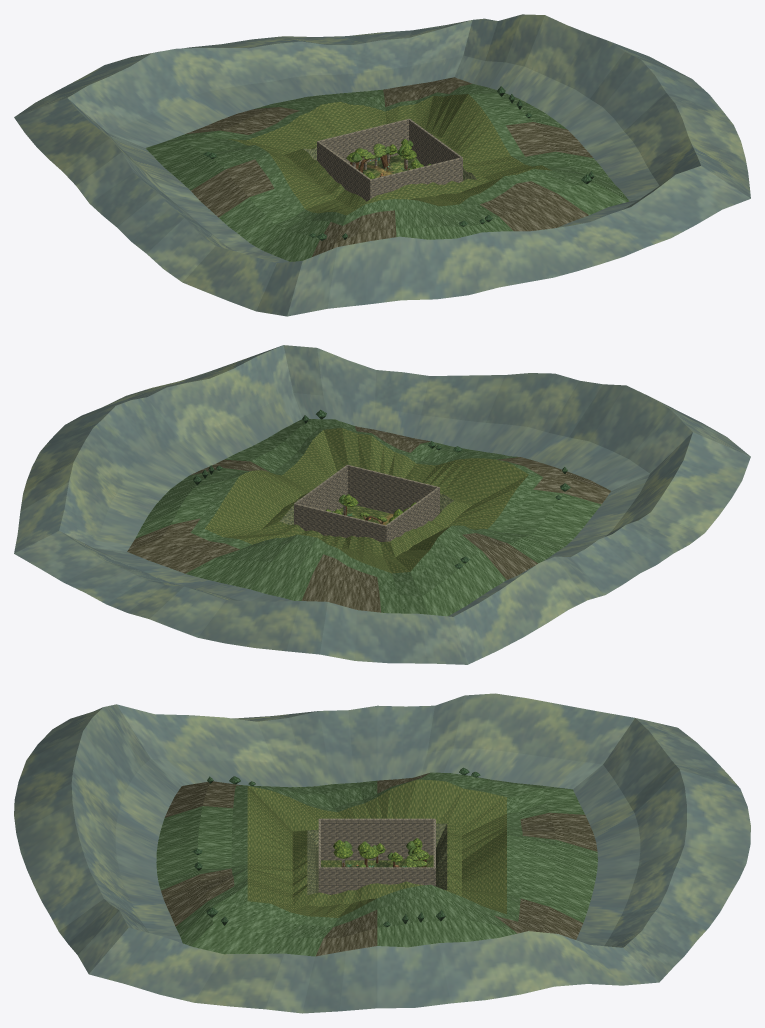
The model's file is RootChoir.fbx.
3 views of the same model, one above another, from view 1: azimuth 30°, elevation 25°; view 2: azimuth 150°, elevation 25°; view 3: azimuth 270°, elevation 25° (orthographic). The views are drawn at different scales.
Visible parts, largest first — view 1: Surroundings, Rim, C_Solids, Set, Terrain; view 2: Surroundings, Rim, C_Solids, Set; view 3: Surroundings, Rim, C_Solids, Set, Terrain.
Boxes of the visible parts, box(x1,y1,x2,y2) form: Surroundings: box(14, 14, 750, 316); Rim: box(228, 94, 551, 215); C_Solids: box(317, 119, 462, 201); Set: box(343, 139, 430, 187); Terrain: box(358, 155, 420, 177); Surroundings: box(14, 345, 750, 664); Rim: box(205, 428, 528, 573); C_Solids: box(294, 465, 439, 541); Set: box(326, 494, 415, 524); Surroundings: box(14, 693, 750, 1013); Rim: box(247, 779, 506, 917); C_Solids: box(318, 818, 435, 894); Set: box(333, 838, 429, 867); Terrain: box(321, 855, 433, 867).
Size of the model in its own units: 25826 by 3594 by 26138.
